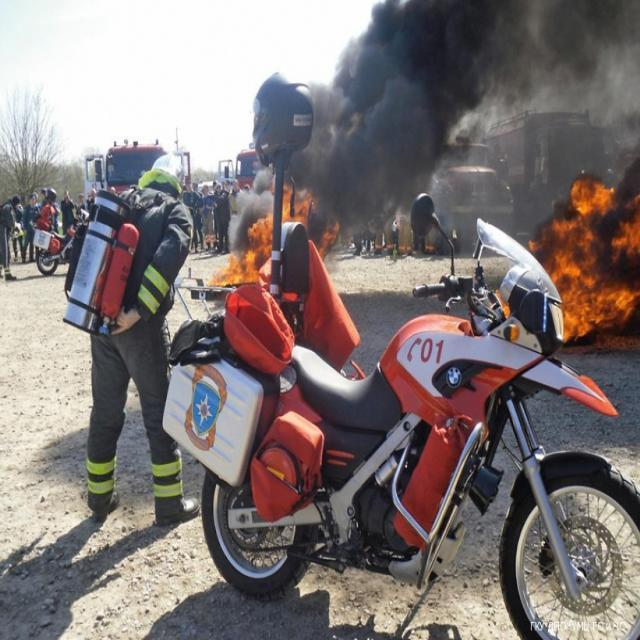Fire: (529, 177, 640, 346), (210, 188, 341, 288)
Smoke: (231, 0, 640, 257)
